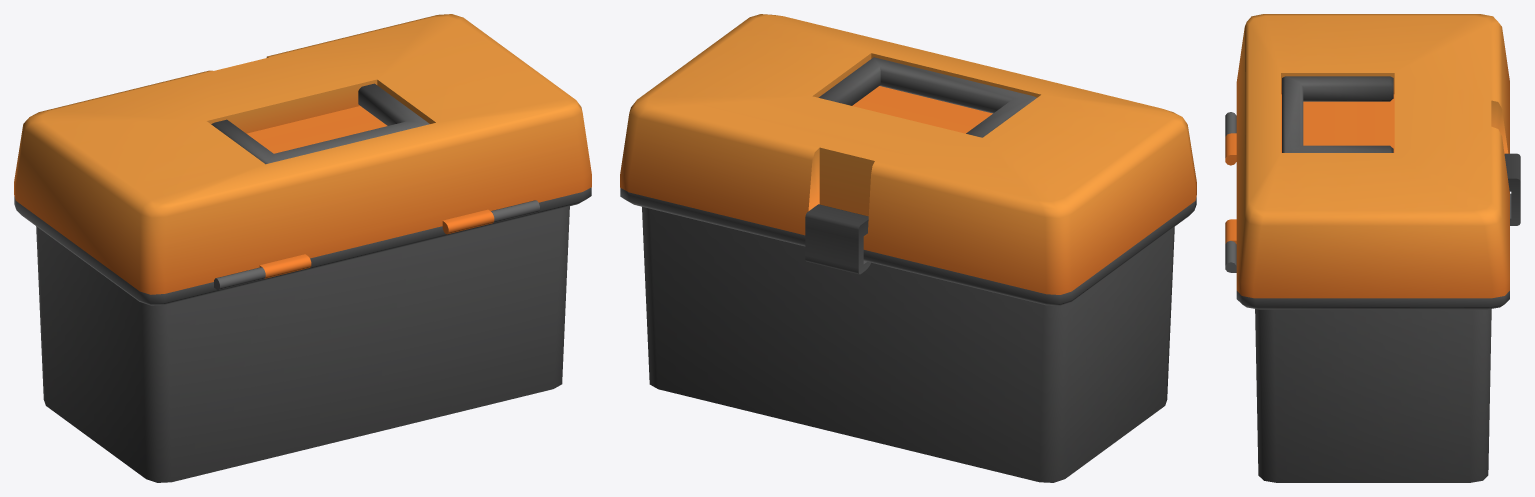
File: toolbox.fbx
3 renders of one model, left to right at view 1: azimuth 30°, elevation 25°; view 2: azimuth 150°, elevation 25°; view 3: azimuth 270°, elevation 25°, orthographic. The views are drawn at different scales.
Visible parts, largest first — view 1: cover, box, handle; view 2: box, cover, handle, clamp; view 3: cover, box, handle, clamp.
Part boxes in pixels (x1,y1,x2,y2): cover: [14, 14, 591, 294]; box: [14, 187, 591, 482]; handle: [211, 83, 429, 164]; box: [620, 188, 1196, 482]; cover: [620, 14, 1196, 294]; handle: [818, 57, 1036, 137]; clamp: [805, 204, 870, 274]; cover: [1225, 14, 1509, 298]; box: [1225, 112, 1509, 482]; handle: [1282, 76, 1393, 152]; clamp: [1504, 153, 1520, 225].
Size of the model in its own units: 2.32 by 1.37 by 1.4.
